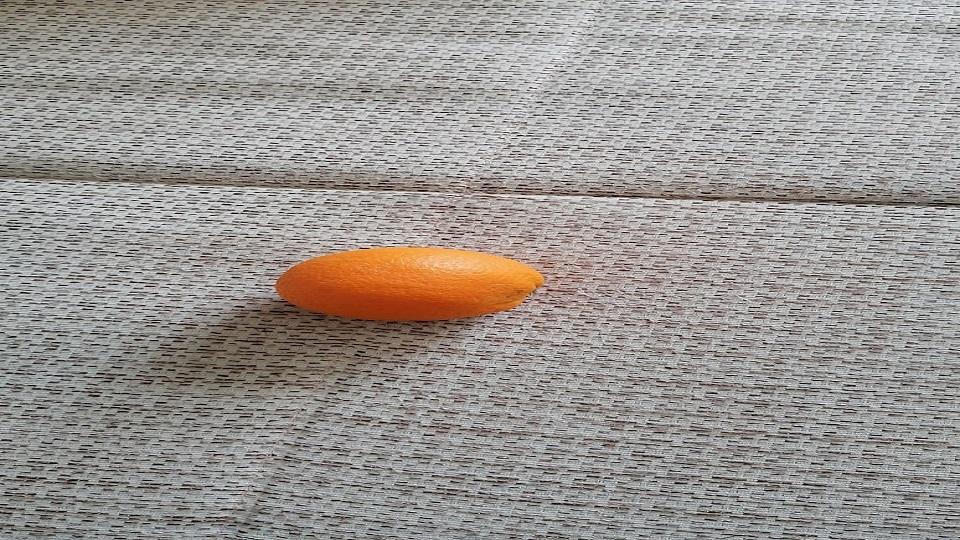portakal: (275, 246, 544, 322)
